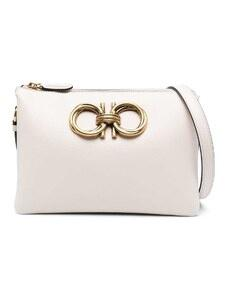FERRAGAMO: (63, 91, 154, 148)
